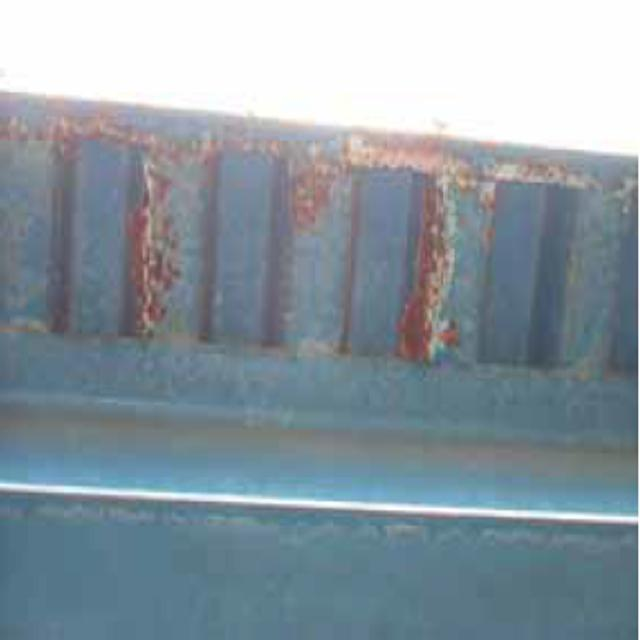corrosion: (23, 84, 614, 367)
